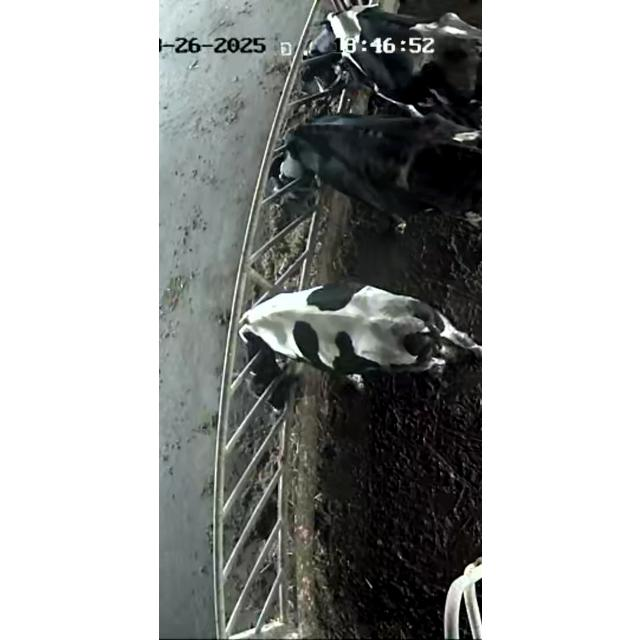eat: (198, 277, 370, 405), (212, 109, 396, 205), (242, 3, 406, 89)
